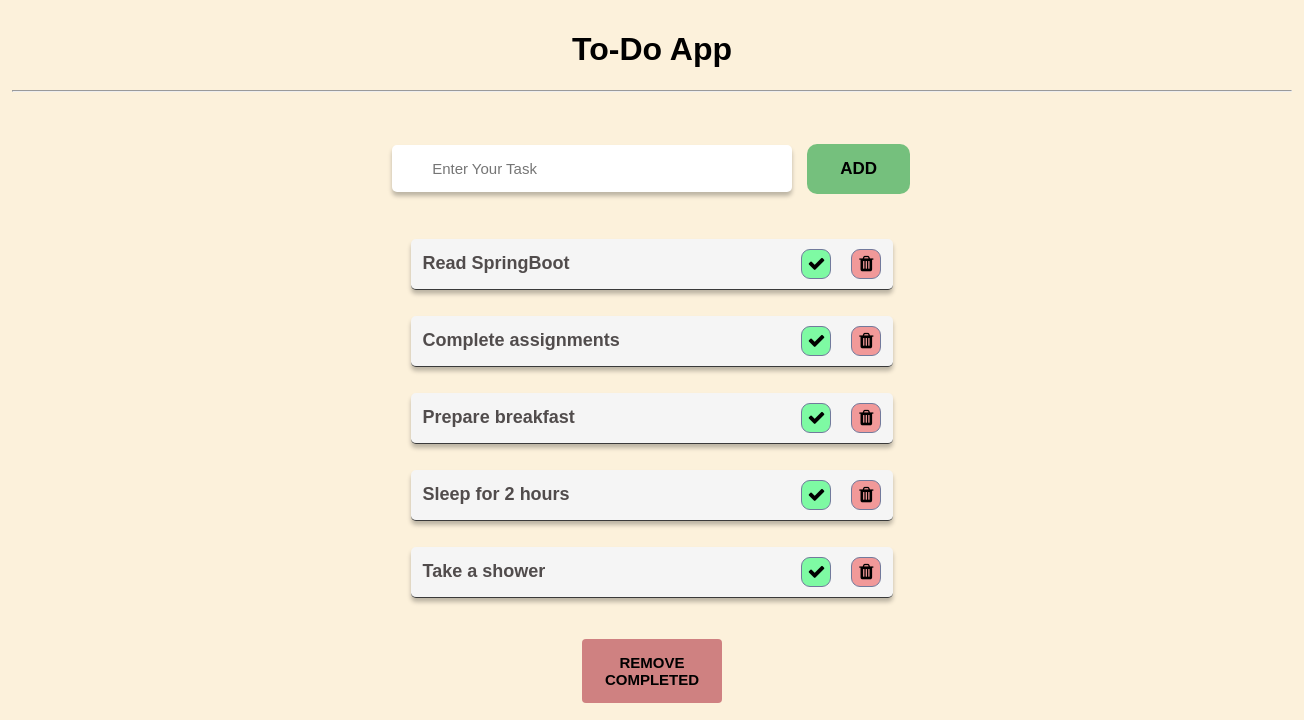
Test: Testing mark as completed and remove completed task functionality › should display correct number of TodoList after marking the task as completed and removing it
Click the 1st button with test id "donetask-button" at (816, 264), box [801,249,831,279]
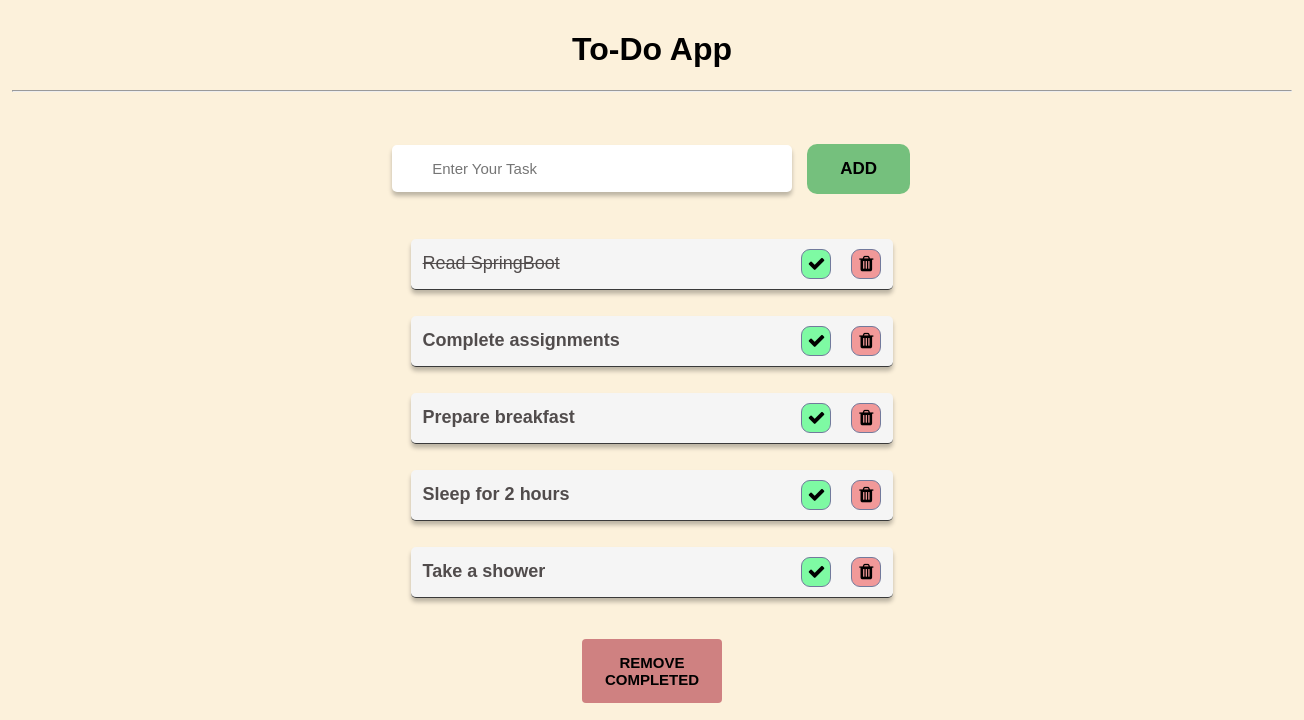
Click the button with test id "remove-completed" at (652, 671), box [582,639,722,703]
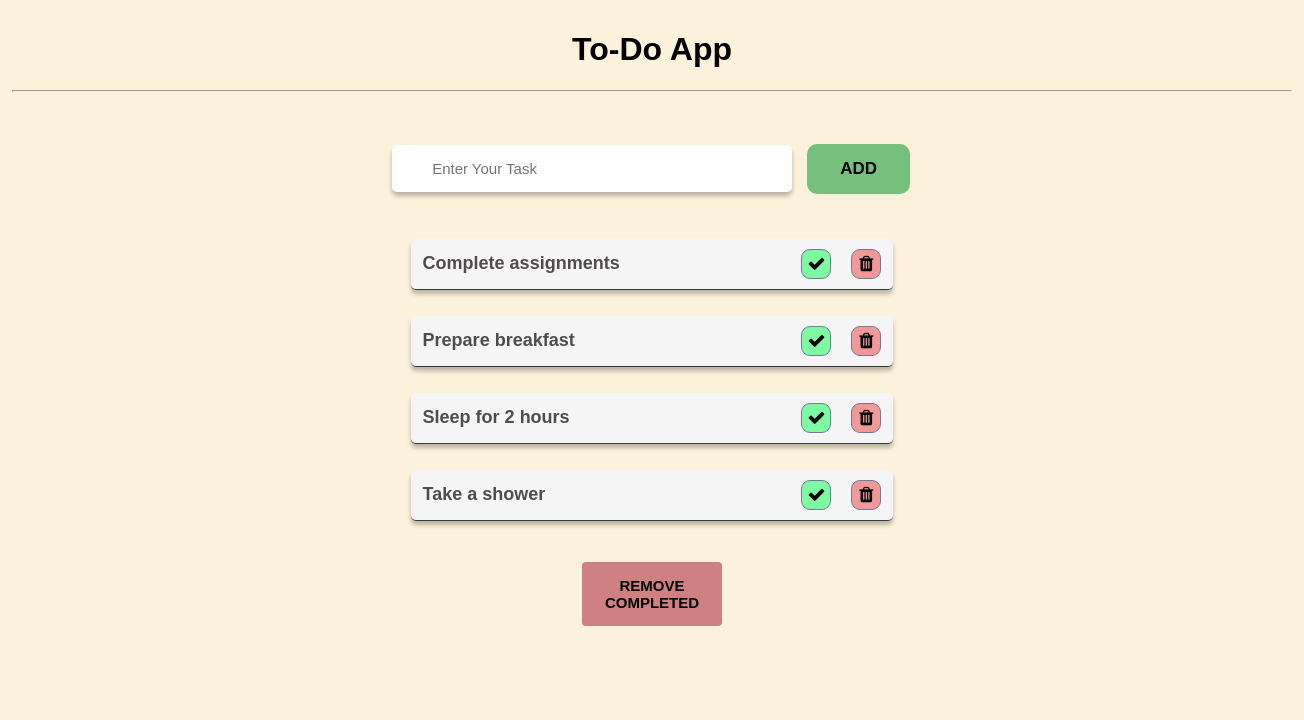
Result: the number of list items with test id "todolist" is 4 at [411,239,893,290]; [411,316,893,367]; [411,393,893,444]; [411,470,893,521]
